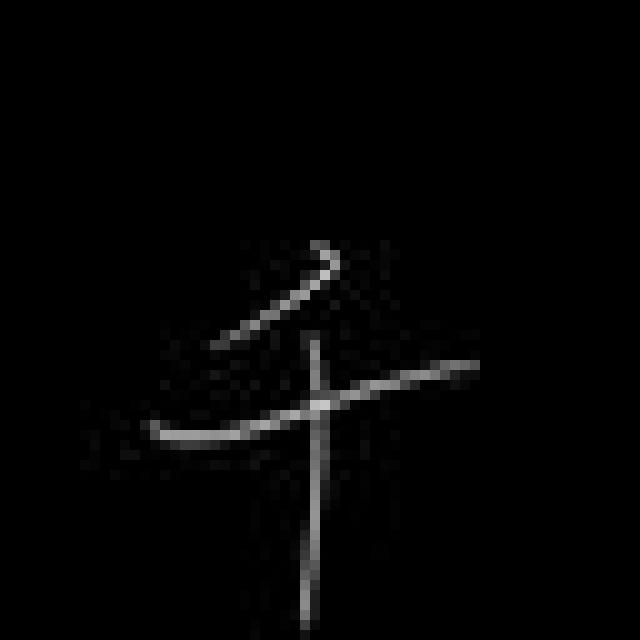1000 -a thousand-: (133, 223, 490, 638)
